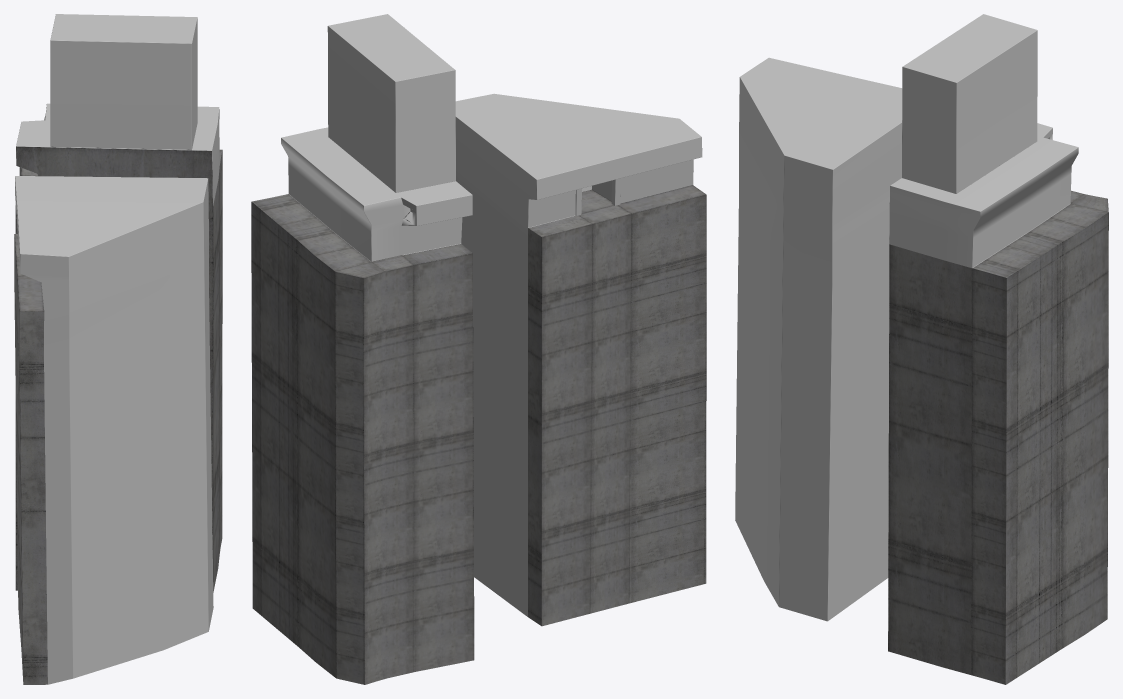
3 views of the same model, side by side, from view 1: azimuth 30°, elevation 25°; view 2: azimuth 150°, elevation 25°; view 3: azimuth 270°, elevation 25° (orthographic). The views are drawn at different scales.
Visible parts, largest first — view 1: Cube.041; view 2: Cube.041; view 3: Cube.041.
Boxes of the visible parts, x1,y1,x2,y2 form: Cube.041: (14,14,222,684); Cube.041: (251,14,706,684); Cube.041: (735,14,1108,684).
Bounding box in the file's own units: 4440 × 7331 × 4299.
